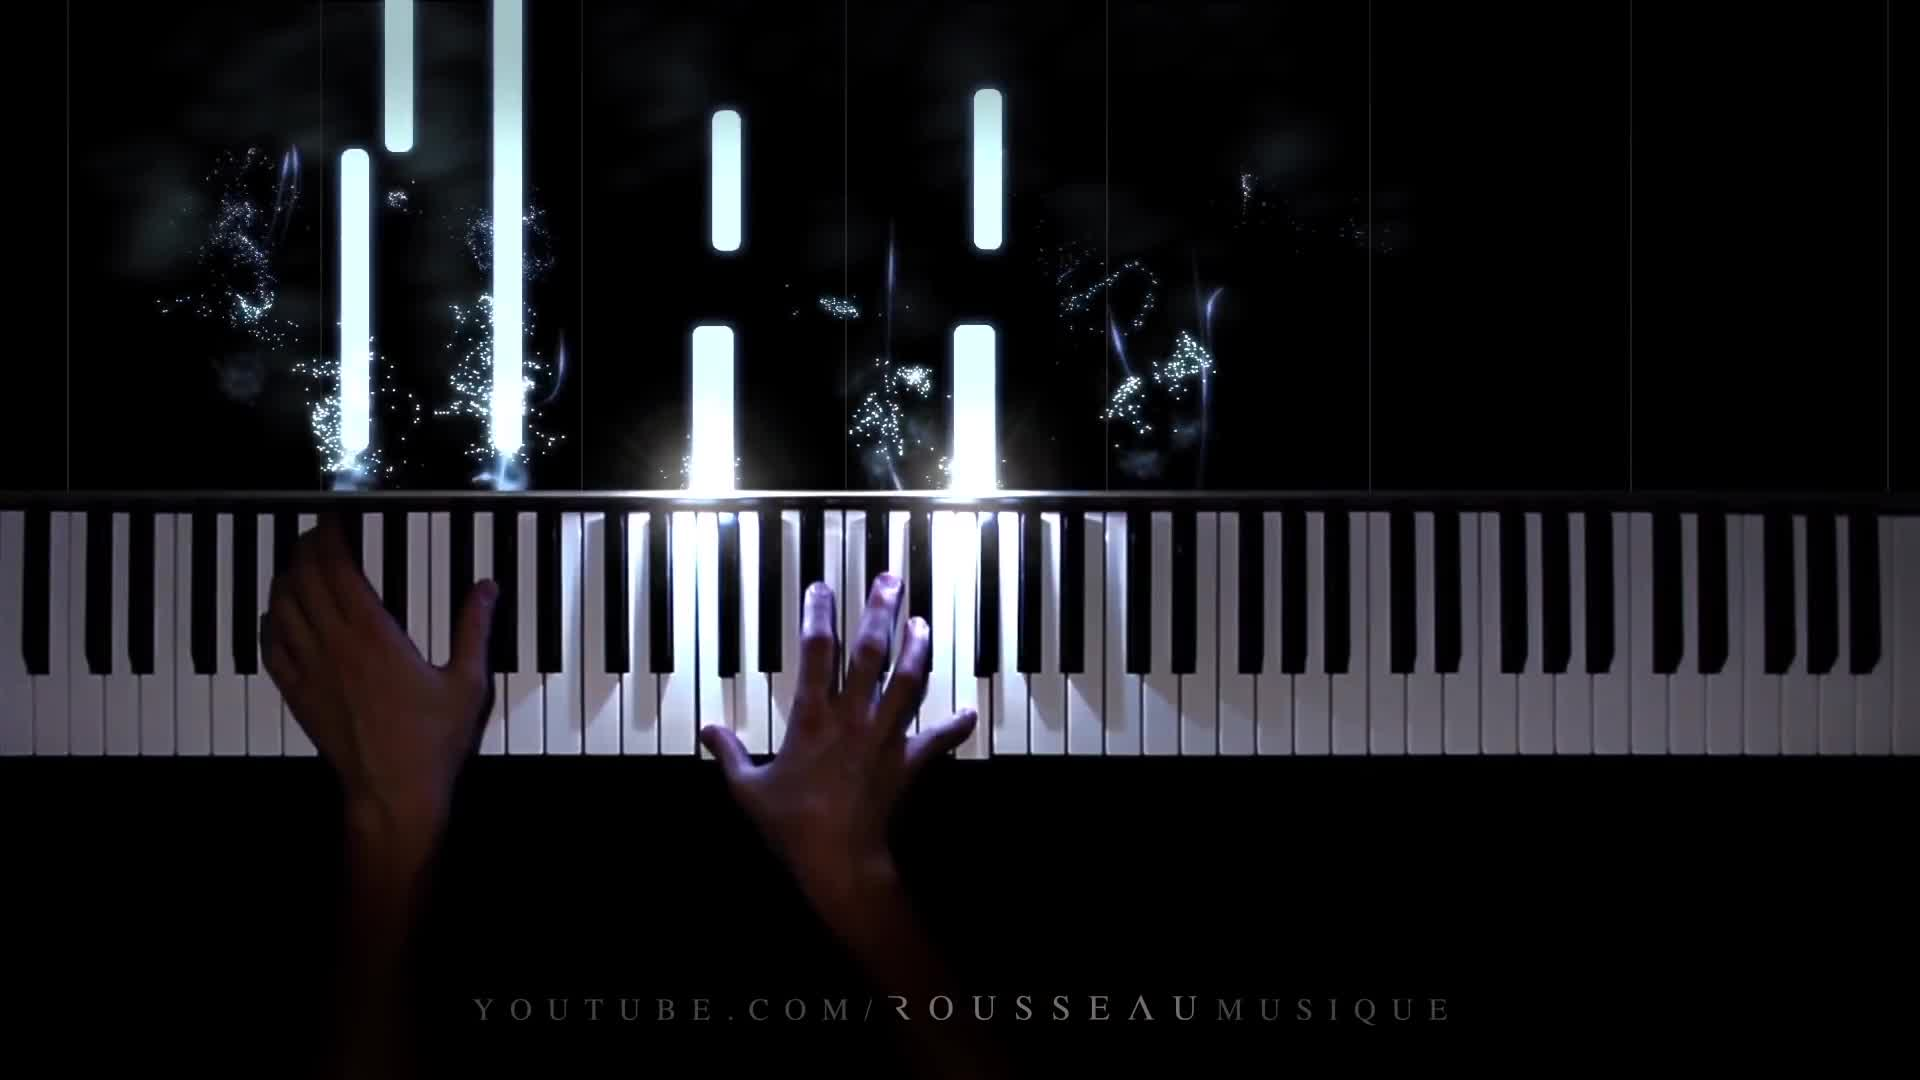left: (258, 509, 509, 775)
right: (700, 568, 975, 829)
